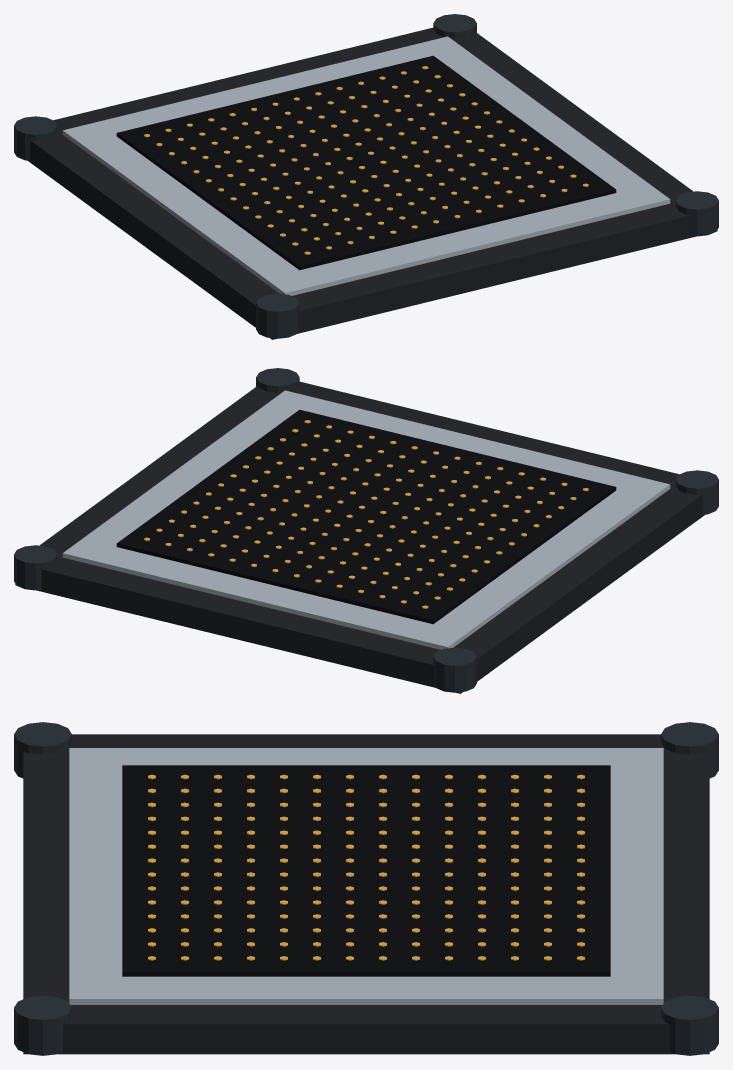
File: 130_L108_CPU_Socket_Frame.fbx
3 views of the same model, one above another, from view 1: azimuth 30°, elevation 25°; view 2: azimuth 150°, elevation 25°; view 3: azimuth 270°, elevation 25° (orthographic). The views are drawn at different scales.
Parts seen in each view (by area): view 1: 118_L106_CPU_Socket_Frame_002, 118_L106_CPU_Socket_Frame_000, 118_L106_CPU_Socket_Frame_001, 118_L106_CPU_Socket_Frame_003, 118_L106_CPU_Socket_Frame_005, 118_L106_CPU_Socket_Frame_004, 118_L106_CPU_Socket_Frame_006; view 2: 118_L106_CPU_Socket_Frame_002, 118_L106_CPU_Socket_Frame_000, 118_L106_CPU_Socket_Frame_001, 118_L106_CPU_Socket_Frame_004, 118_L106_CPU_Socket_Frame_006, 118_L106_CPU_Socket_Frame_003, 118_L106_CPU_Socket_Frame_005; view 3: 118_L106_CPU_Socket_Frame_002, 118_L106_CPU_Socket_Frame_000, 118_L106_CPU_Socket_Frame_001, 118_L106_CPU_Socket_Frame_005, 118_L106_CPU_Socket_Frame_006, 118_L106_CPU_Socket_Frame_003, 118_L106_CPU_Socket_Frame_004.
Part boxes in pixels (x1,y1,x2,y2): 118_L106_CPU_Socket_Frame_002: (116,55,616,270); 118_L106_CPU_Socket_Frame_000: (28,27,717,339); 118_L106_CPU_Socket_Frame_001: (62,36,670,295); 118_L106_CPU_Socket_Frame_003: (256,293,299,338); 118_L106_CPU_Socket_Frame_005: (675,191,718,236); 118_L106_CPU_Socket_Frame_004: (14,116,57,160); 118_L106_CPU_Socket_Frame_006: (433,14,476,38); 118_L106_CPU_Socket_Frame_002: (116,409,616,624); 118_L106_CPU_Socket_Frame_000: (15,381,704,693); 118_L106_CPU_Socket_Frame_001: (62,390,670,649); 118_L106_CPU_Socket_Frame_004: (433,647,476,692); 118_L106_CPU_Socket_Frame_006: (14,545,57,590); 118_L106_CPU_Socket_Frame_003: (675,470,718,514); 118_L106_CPU_Socket_Frame_005: (256,368,299,392); 118_L106_CPU_Socket_Frame_002: (122,765,610,976); 118_L106_CPU_Socket_Frame_000: (23,734,709,1054); 118_L106_CPU_Socket_Frame_001: (69,748,663,1004); 118_L106_CPU_Socket_Frame_005: (14,995,71,1055); 118_L106_CPU_Socket_Frame_006: (661,995,718,1055); 118_L106_CPU_Socket_Frame_003: (14,722,71,778); 118_L106_CPU_Socket_Frame_004: (661,722,718,778).
Bounding box in the file's own units: 0.0534 × 0.0534 × 0.00352.
